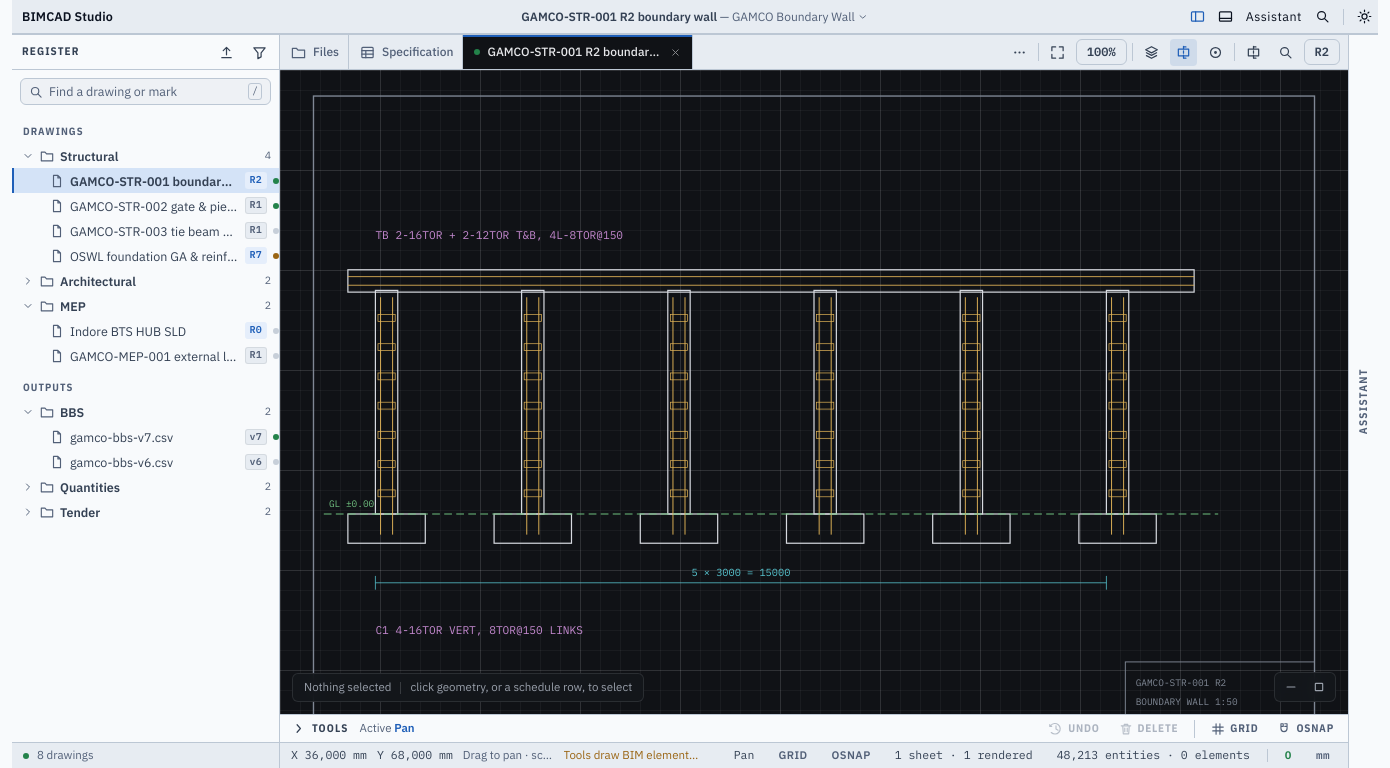
Scenario: the tool strip is wired to the editor › Measure creates nothing and carries the live distance in the hint (§8.7)
Click the button with test id "toggle-tools" at (1225, 16), box [1212,4,1239,28]
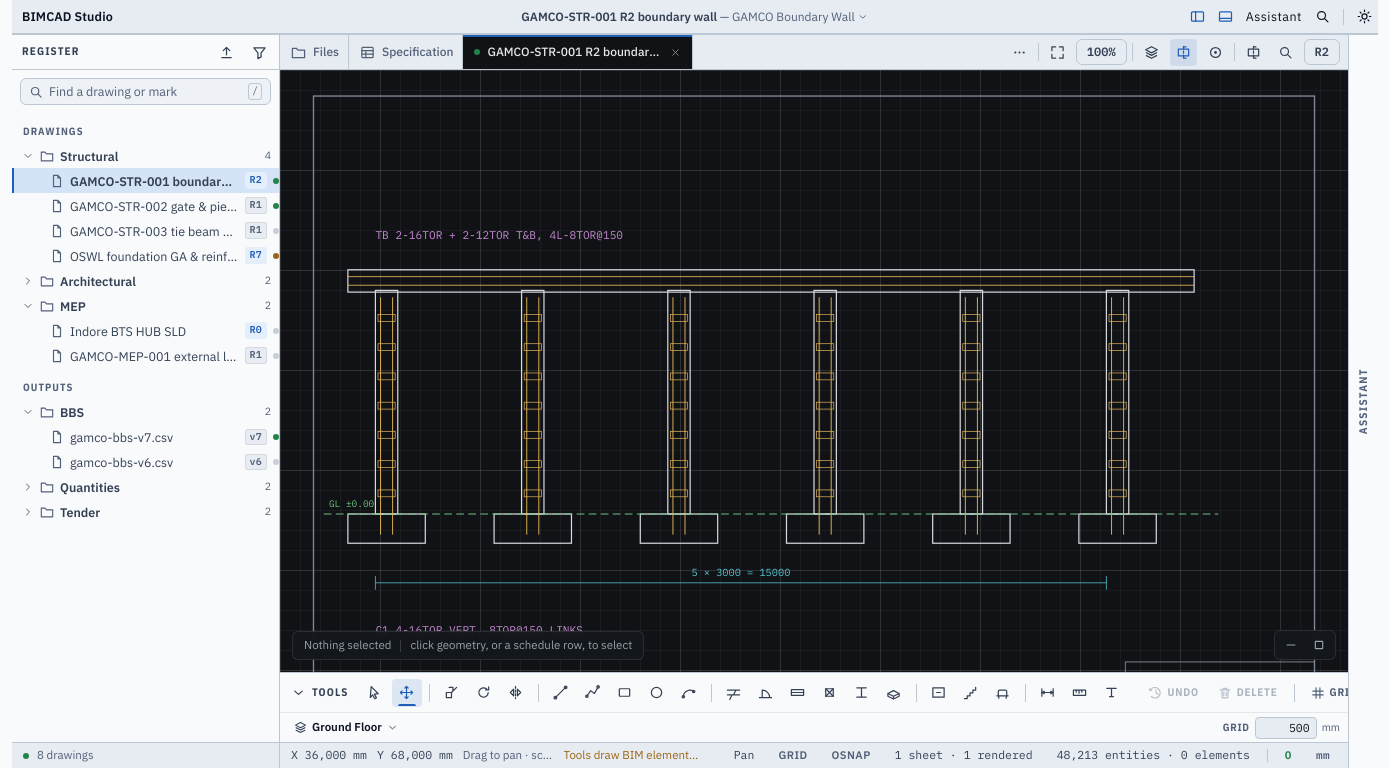
Click the button named "Measure" at (1080, 692), box [1064,678,1094,706]
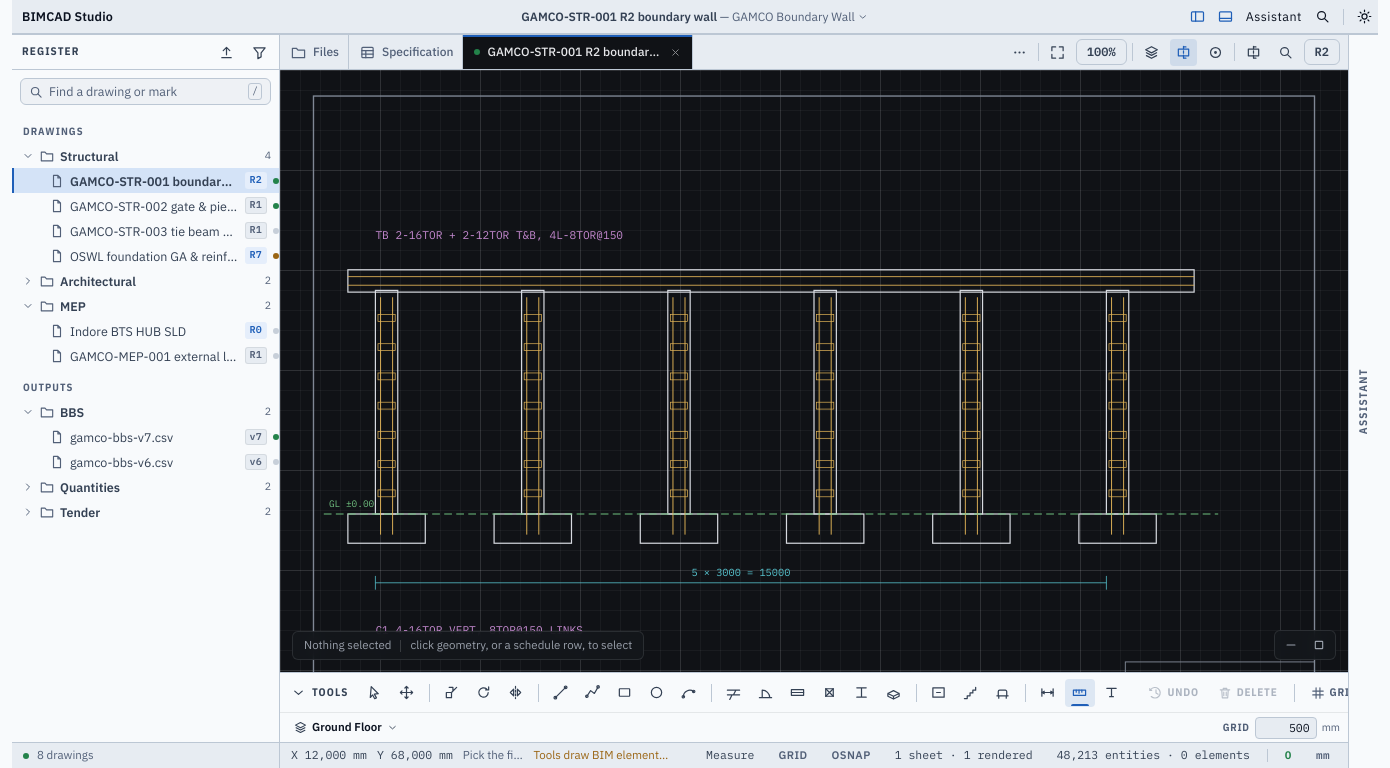
Press the mouse on the drawing with class "editor-overlay" at (814, 371), box [280,70,1348,672]
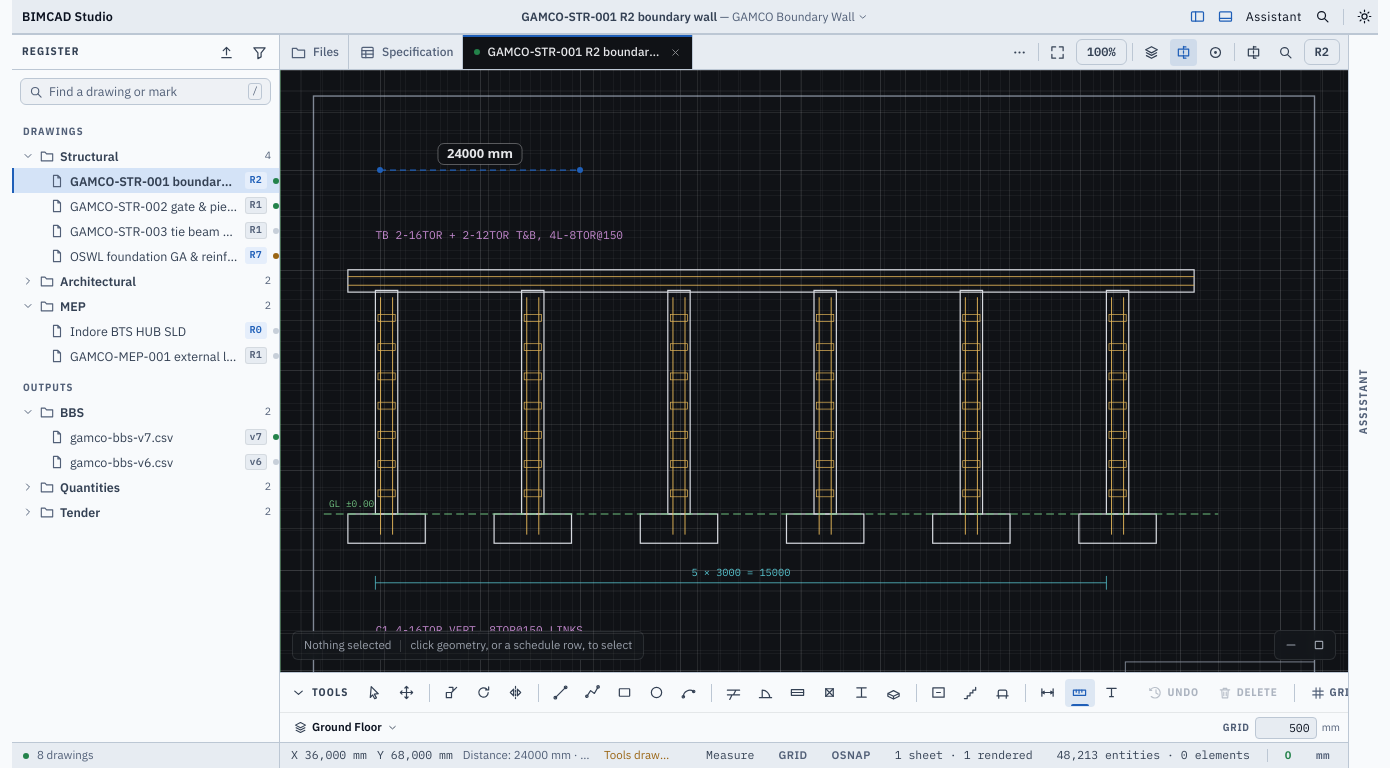
Expected: the text with test id "tool-hint" reads "Distance: 24000 mm · Type a length, or click", [463,747,692,762]
